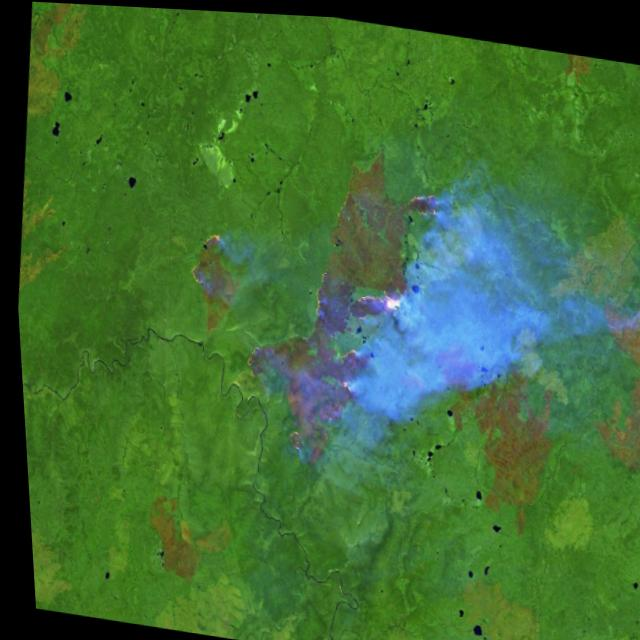fire: (159, 146, 461, 476)
